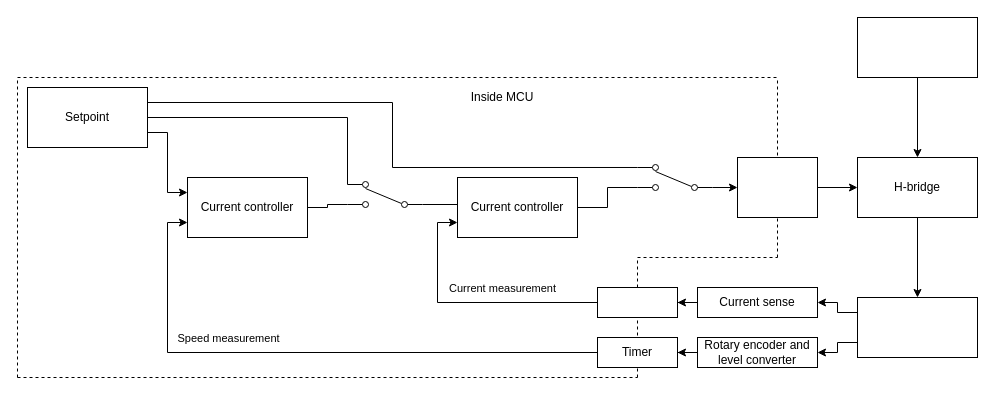
Some shapes in this 995 by 396 pixel diagram are drawn without their labels. Each missing label, with the centre of its shape:
ADC: (x=637, y=302)
DC motor: (x=917, y=327)
Power supply: (x=917, y=47)
PWM: (x=777, y=187)
